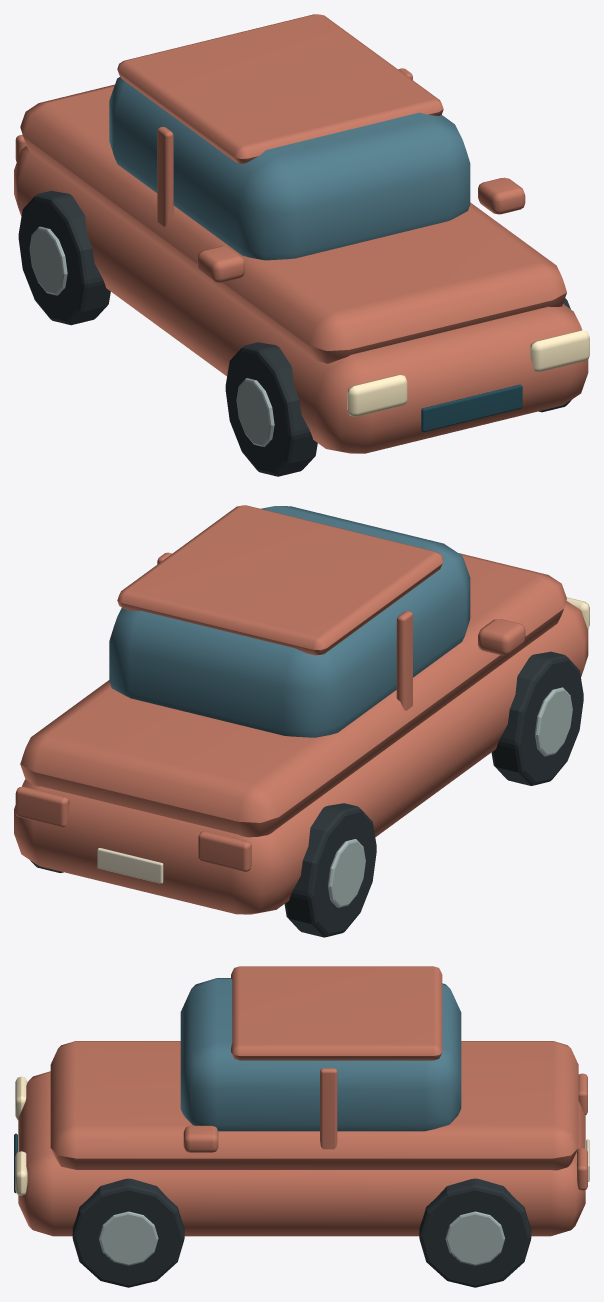
Rendered from car-coral.glb.
3 renders of one model, top to bottom at view 1: azimuth 30°, elevation 25°; view 2: azimuth 150°, elevation 25°; view 3: azimuth 270°, elevation 25°, orthographic. The views are drawn at different scales.
Parts seen in each view (by area): view 1: Shoulder, Lower body, Cabin glazing, Roof, Tyre.001, Tyre, Front grille, Hub.001, Hub, Headlight, Headlight.001, Door pillar (+2 smaller); view 2: Shoulder, Lower body, Cabin glazing, Roof, Tyre, Tyre.001, Hub, Hub.001, Rear light, Rear light.001, Door pillar, Rear plate (+1 smaller); view 3: Shoulder, Lower body, Cabin glazing, Roof, Tyre.002, Tyre.003, Hub.002, Hub.003, Door pillar.001, Mirror.001, Headlight.001, Rear light.001.
Part boxes in pixels (<box>): Shoulder: <box>20,84,566,363</box>; Lower body: <box>14,146,588,453</box>; Cabin glazing: <box>109,77,470,260</box>; Roof: <box>117,14,443,163</box>; Tyre.001: <box>18,190,110,325</box>; Tyre: <box>225,342,317,476</box>; Front grille: <box>421,384,522,432</box>; Hub.001: <box>29,226,67,295</box>; Hub: <box>236,378,274,446</box>; Headlight: <box>347,375,407,416</box>; Headlight.001: <box>530,330,589,372</box>; Door pillar: <box>157,127,173,226</box>; Shoulder: <box>20,553,566,837</box>; Lower body: <box>14,601,588,914</box>; Cabin glazing: <box>109,506,470,737</box>; Roof: <box>117,505,443,655</box>; Tyre: <box>491,651,583,785</box>; Tyre.001: <box>284,803,376,937</box>; Hub: <box>534,687,572,756</box>; Hub.001: <box>327,839,365,907</box>; Rear light: <box>198,831,251,871</box>; Rear light.001: <box>15,786,69,827</box>; Door pillar: <box>396,611,412,710</box>; Rear plate: <box>97,848,163,883</box>; Shoulder: <box>50,1041,578,1170</box>; Lower body: <box>18,1071,585,1236</box>; Cabin glazing: <box>180,978,461,1131</box>; Roof: <box>231,966,442,1060</box>; Tyre.002: <box>72,1178,184,1287</box>; Tyre.003: <box>419,1178,531,1287</box>; Hub.002: <box>98,1211,158,1265</box>; Hub.003: <box>445,1211,505,1265</box>; Door pillar.001: <box>320,1068,337,1149</box>; Mirror.001: <box>183,1125,218,1152</box>; Headlight.001: <box>15,1151,27,1195</box>; Rear light.001: <box>577,1148,587,1190</box>.
Bounding box in the file's own units: 1.92 × 1.56 × 3.66.
